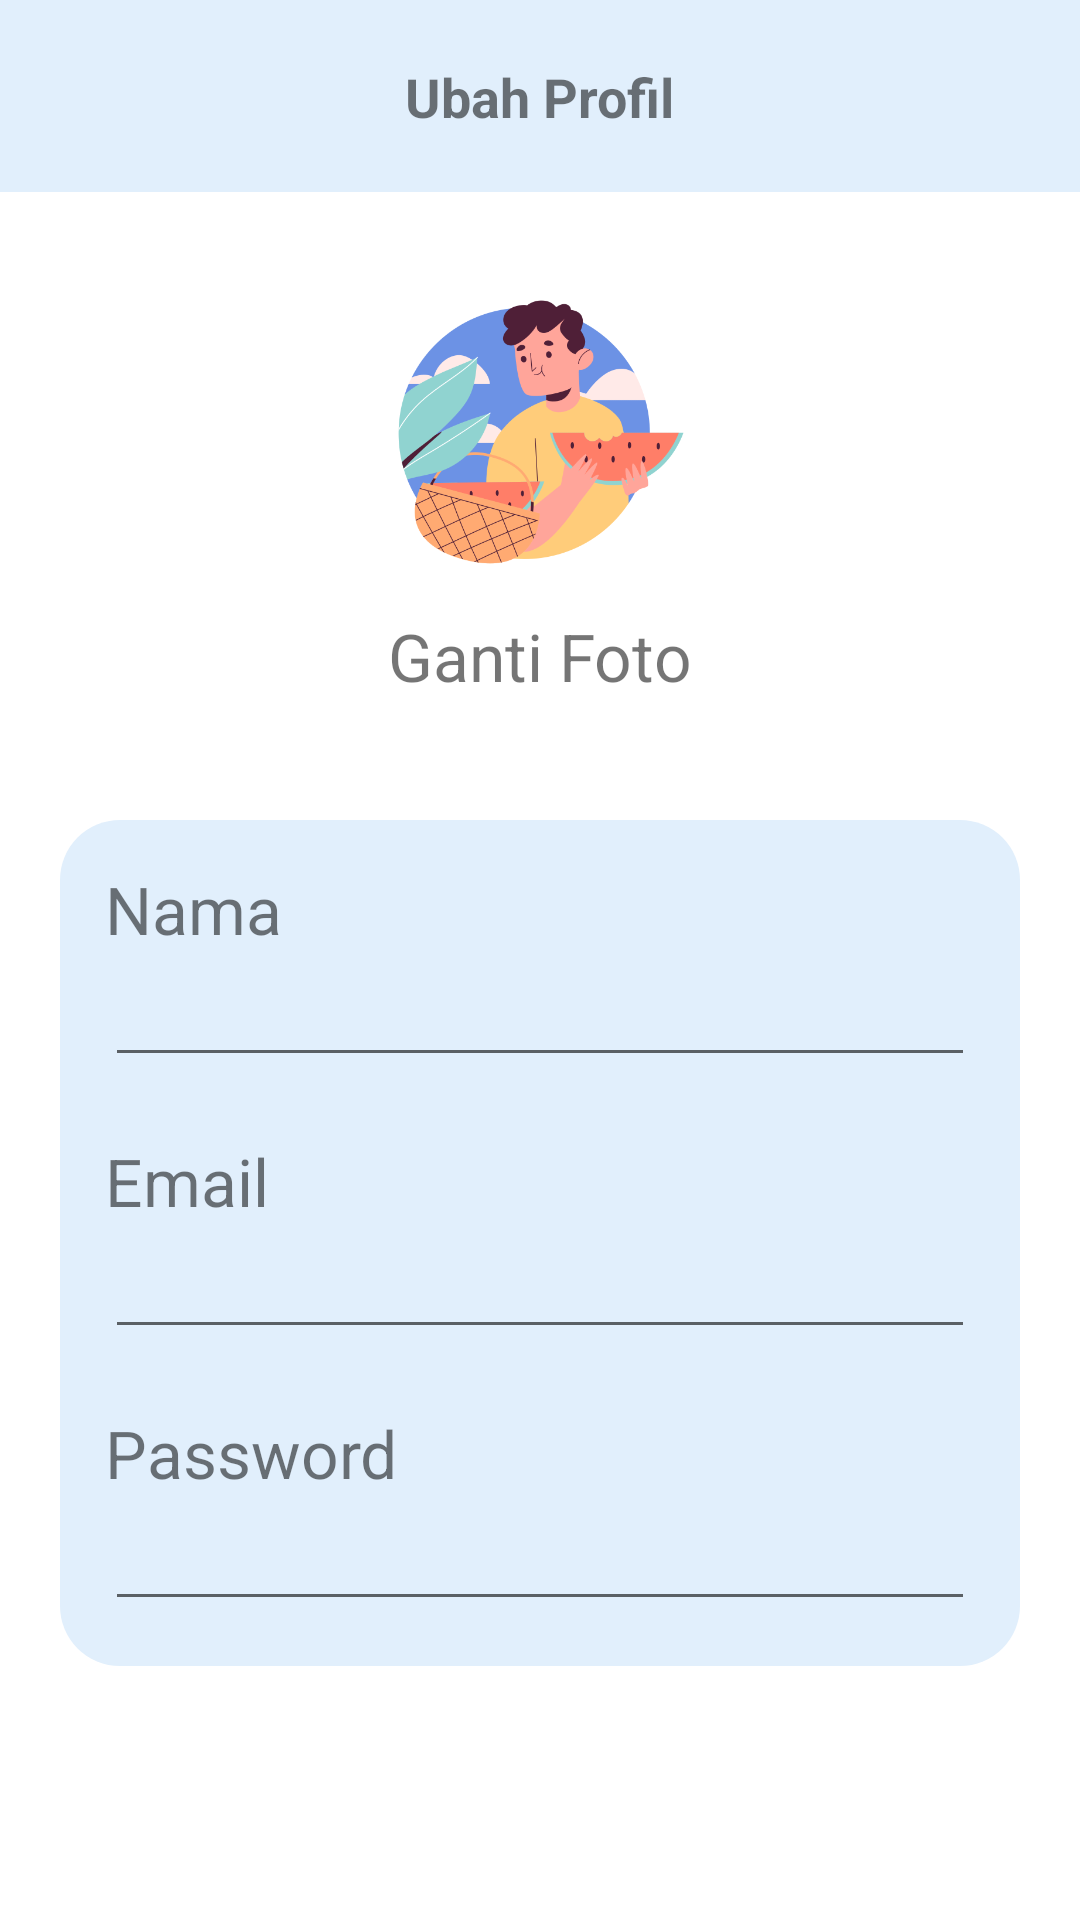

Named icons in this screenshot (1080px×1920px) and their bounding boxes, region(x1, y1, x2, y2):
eating: region(398, 300, 683, 564)
